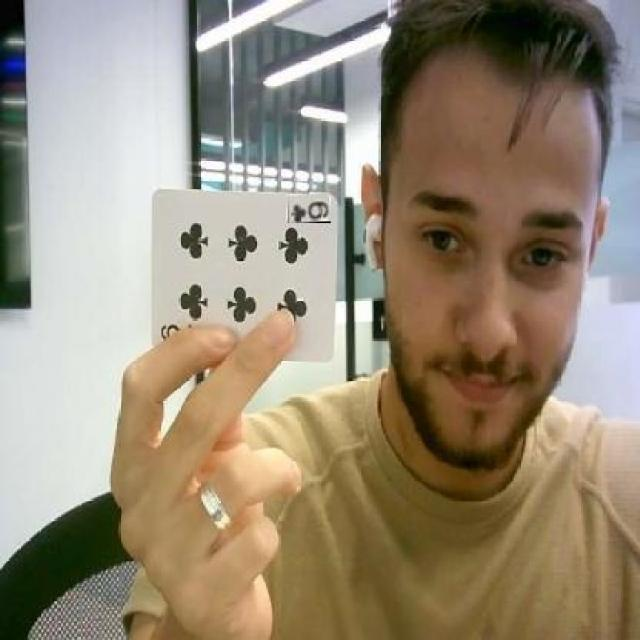6C: (288, 194, 330, 223)
